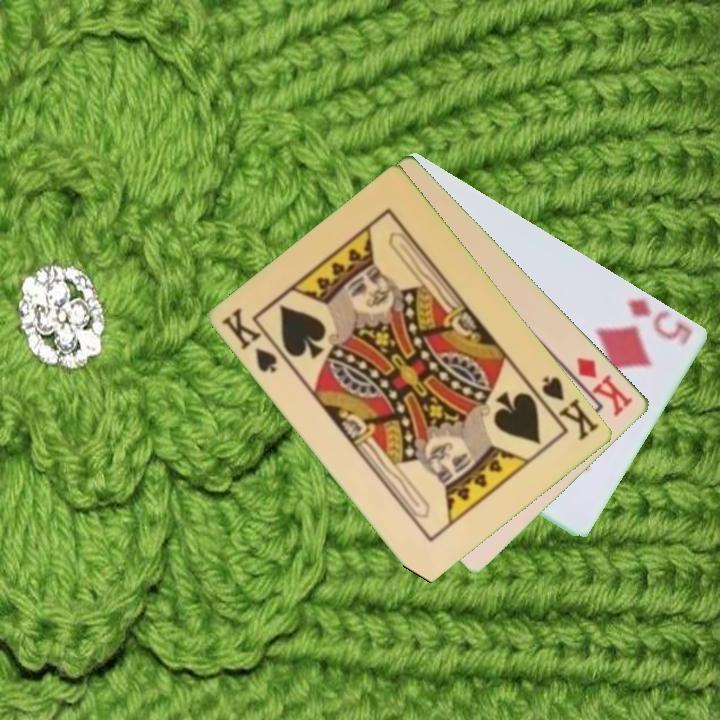5d: (623, 294, 696, 344)
Kd: (573, 354, 636, 420)
Ks: (539, 372, 603, 444), (218, 304, 282, 376)
